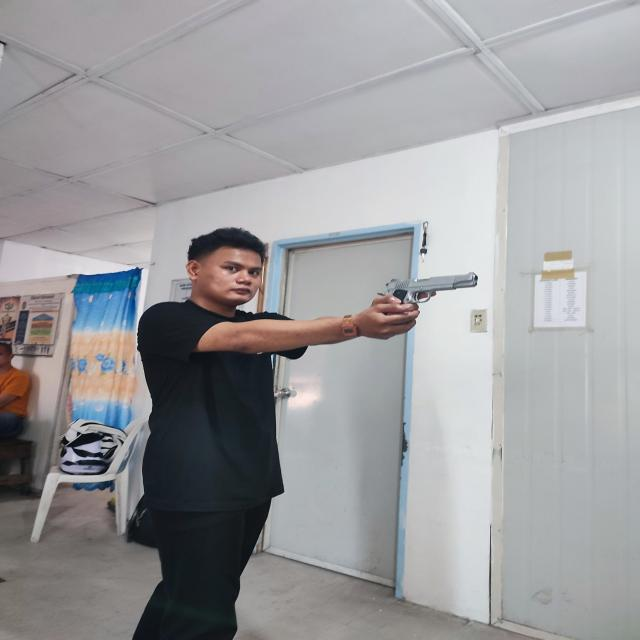pistol: (377, 273, 478, 304)
